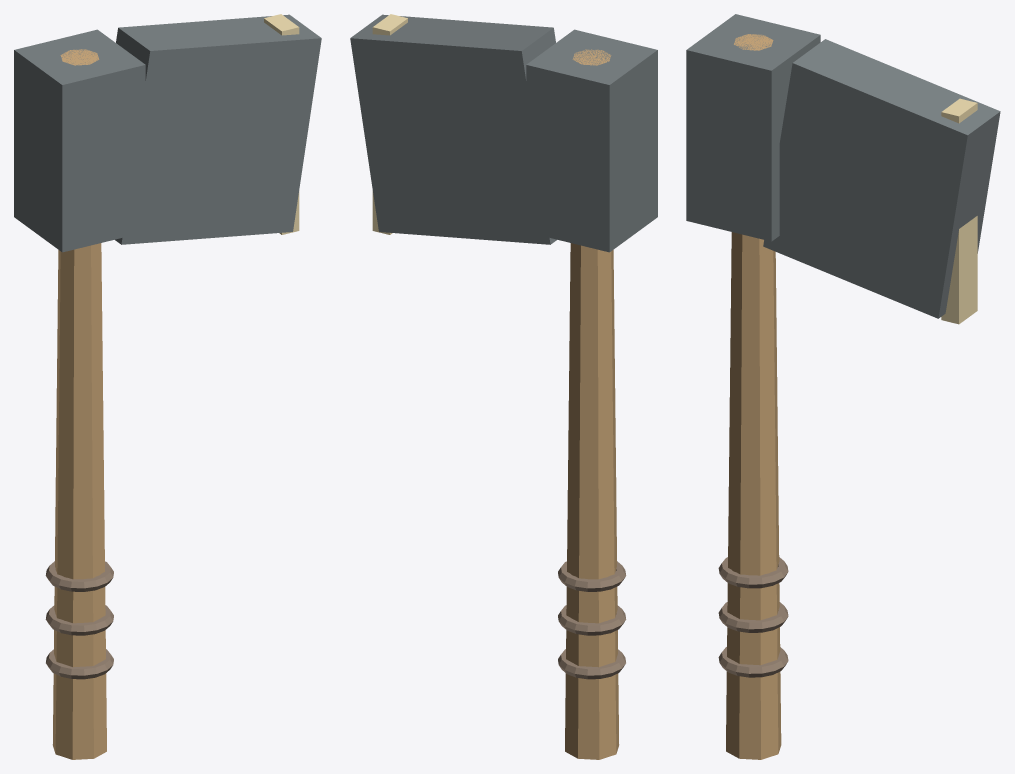
Rendered from axe-4.glb.
The picture shows the model from 3 angles, left to right: view 1: azimuth 30°, elevation 25°; view 2: azimuth 150°, elevation 25°; view 3: azimuth 330°, elevation 25°; orthographic projection. The views are drawn at different scales.
Visible parts, largest first — view 1: harvest-hearth-wood-axe; view 2: harvest-hearth-wood-axe; view 3: harvest-hearth-wood-axe.
Boxes of the visible parts, left/top/right/bottom form: harvest-hearth-wood-axe: left=14, top=14, right=321, bottom=759; harvest-hearth-wood-axe: left=350, top=14, right=657, bottom=759; harvest-hearth-wood-axe: left=686, top=14, right=1000, bottom=759.
Bounding box in the file's own units: 0.3848 × 0.9566 × 0.12.
